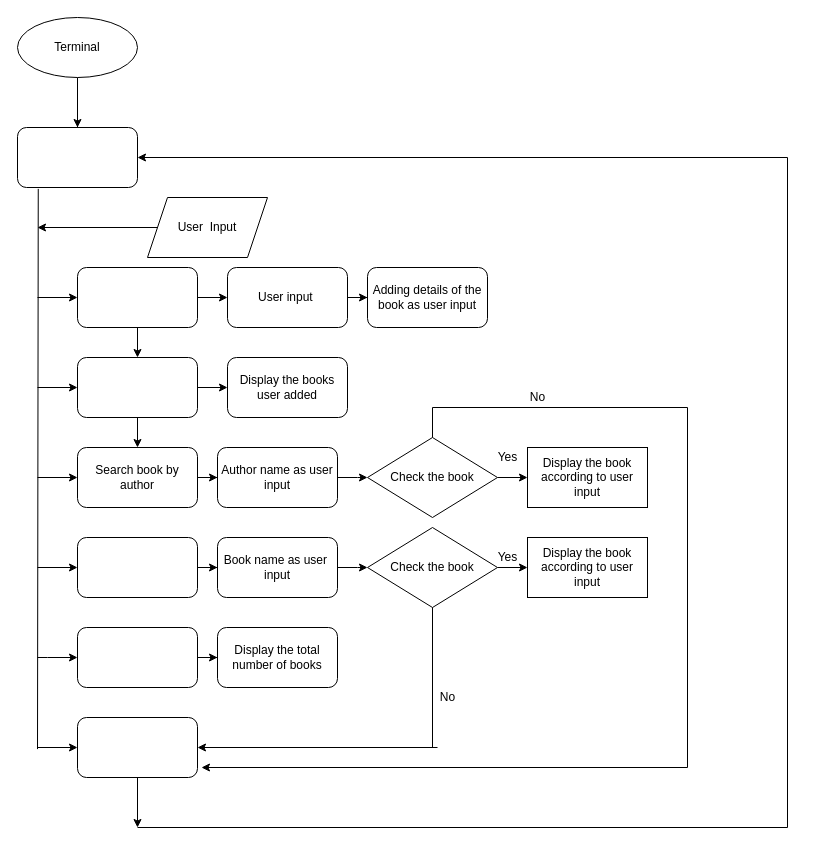
Some shapes in this 813 by 853 pixel diagram are drawn without their labels. The shapes that lost their labels are listed below. From the top down, each one's box as (x1, y1, x2, y2) in pixels, then its label:
(16, 126, 138, 188): Menu
(76, 266, 198, 328): Add books
(76, 356, 198, 418): Display books
(76, 536, 198, 598): Search book by name
(76, 626, 198, 688): Count number of books
(76, 716, 198, 778): Exit
